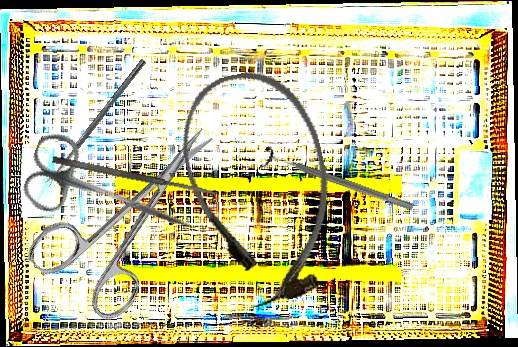Cannula: (168, 59, 353, 316)
Fixation Ring: (259, 143, 417, 220)
Iris Scissors: (21, 97, 253, 332), (16, 127, 207, 262)
Spatula Surgical: (51, 154, 217, 199)
Surgical Spoon: (43, 58, 147, 187)
